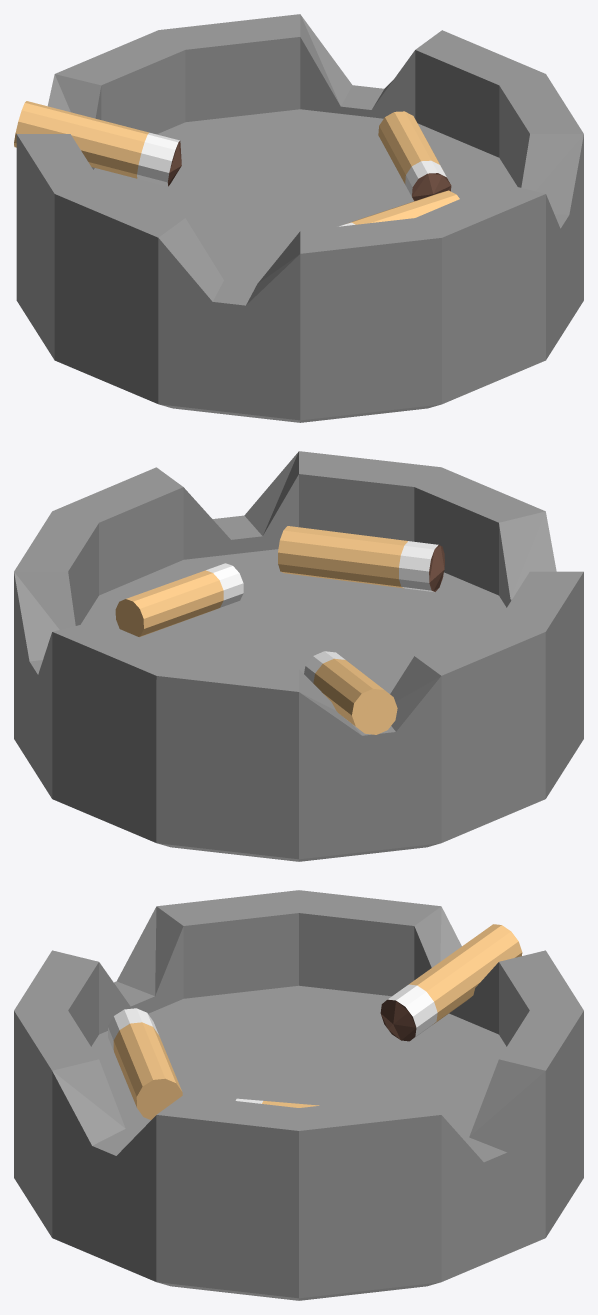
Rendered from br_ashtray.glb.
3 renders of one model, top to bottom at view 1: azimuth 30°, elevation 25°; view 2: azimuth 150°, elevation 25°; view 3: azimuth 270°, elevation 25°, orthographic.
Visible parts, largest first — view 1: Node; view 2: Node; view 3: Node.
Part boxes in pixels (x1,y1,x2,y2): Node: (14,14,583,422); Node: (14,451,583,861); Node: (14,890,583,1300).
Size of the model in its own units: 0.71 by 0.25 by 0.71.
